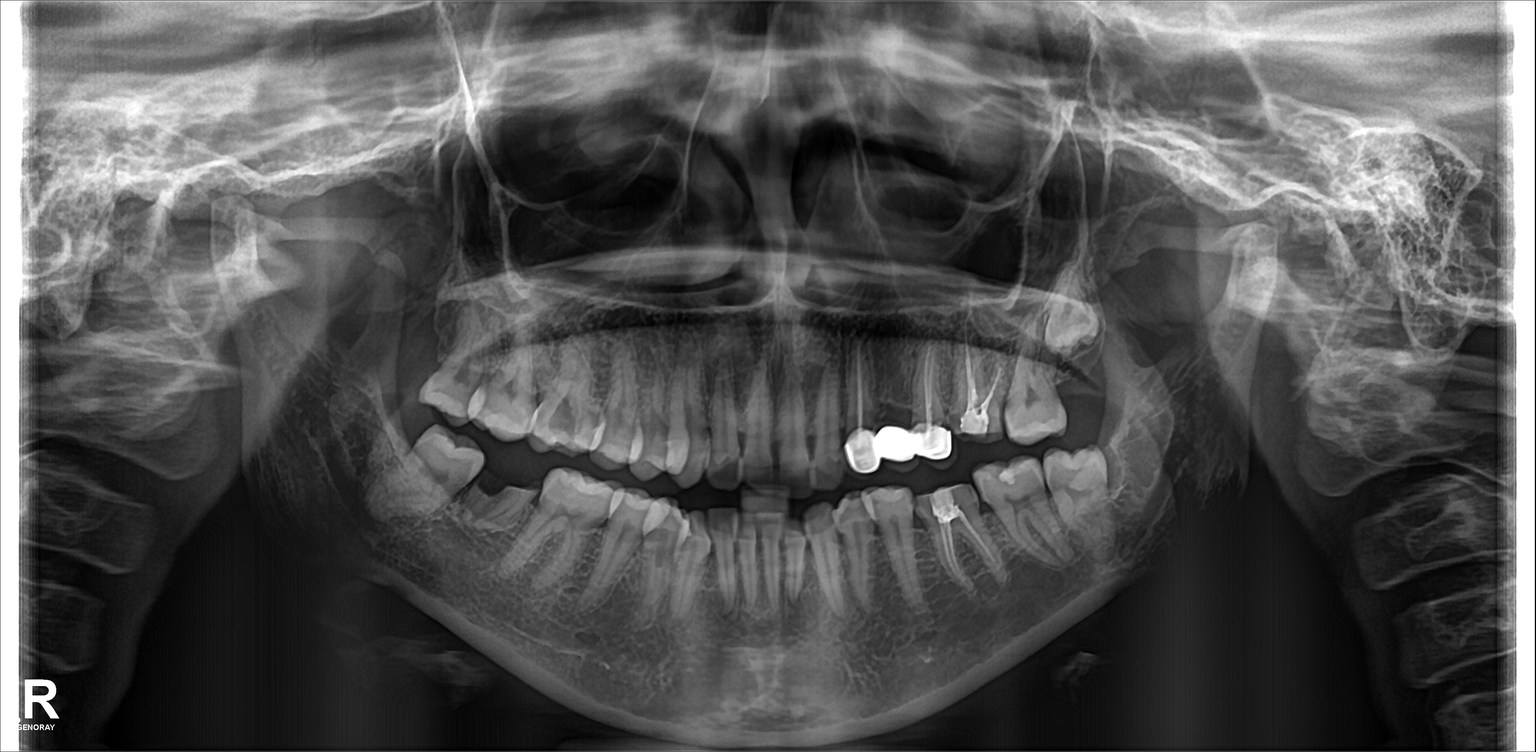Dental Caries: (544, 398, 580, 439)
Endodontically Treated Tooth: (924, 499, 988, 587), (836, 352, 882, 471), (873, 344, 913, 460), (911, 350, 952, 456), (961, 344, 995, 432)
Impacted Third Molar: (1048, 300, 1102, 353)
Missing Tooth: (391, 307, 441, 399), (1058, 348, 1102, 417)
Retained Root: (480, 456, 539, 535)
